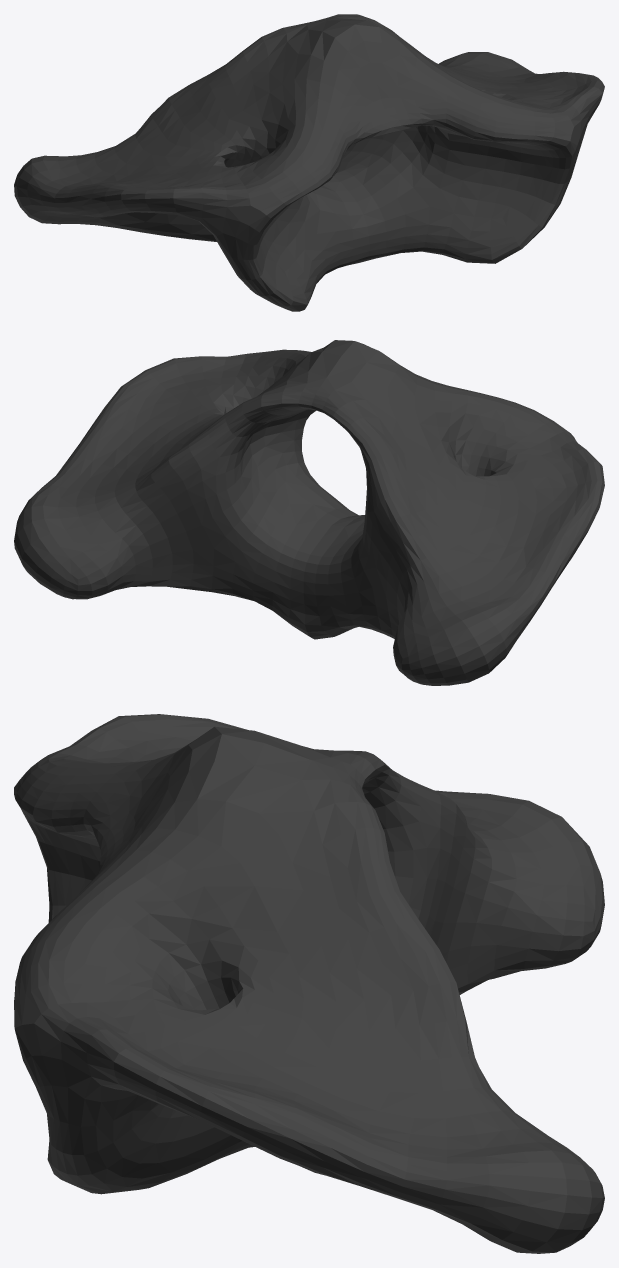
3 views of the same model, one above another, from view 1: azimuth 30°, elevation 25°; view 2: azimuth 150°, elevation 25°; view 3: azimuth 270°, elevation 25° (orthographic). The views are drawn at different scales.
Visible parts, largest first — view 1: b_C1_LO; view 2: b_C1_LO; view 3: b_C1_LO.
Part boxes in pixels (bbox=[...]): b_C1_LO: bbox=[14, 14, 604, 311]; b_C1_LO: bbox=[14, 340, 604, 685]; b_C1_LO: bbox=[14, 714, 604, 1253].
Size of the model in its own units: 0.00156 by 0.000818 by 0.001.
Materials: 1 (1 with a texture image).
